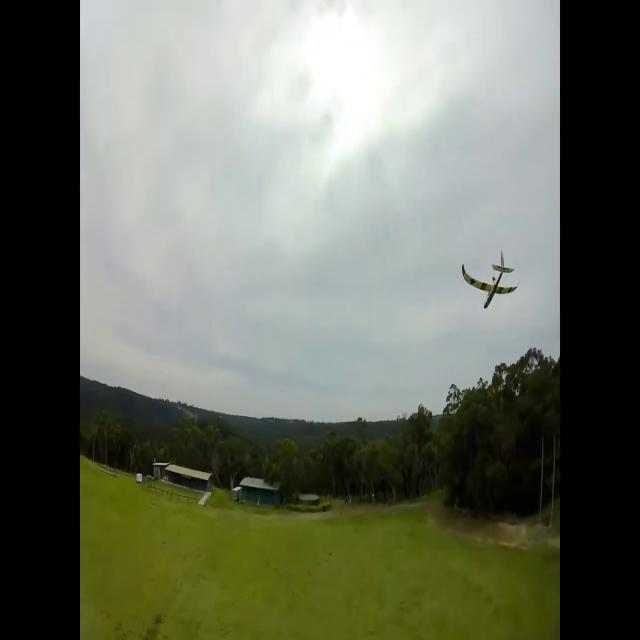iha: (460, 257, 520, 310)
